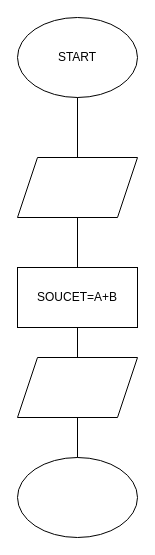
The diagram is 155 pixels wide and 555 high, and some of its shapes have lost their labels. The centre of each missing label's shape, as x and y in pixels:
"IN: A,B" belongs at pixel 77 187.
"OUT: SOUCET" belongs at pixel 77 387.
